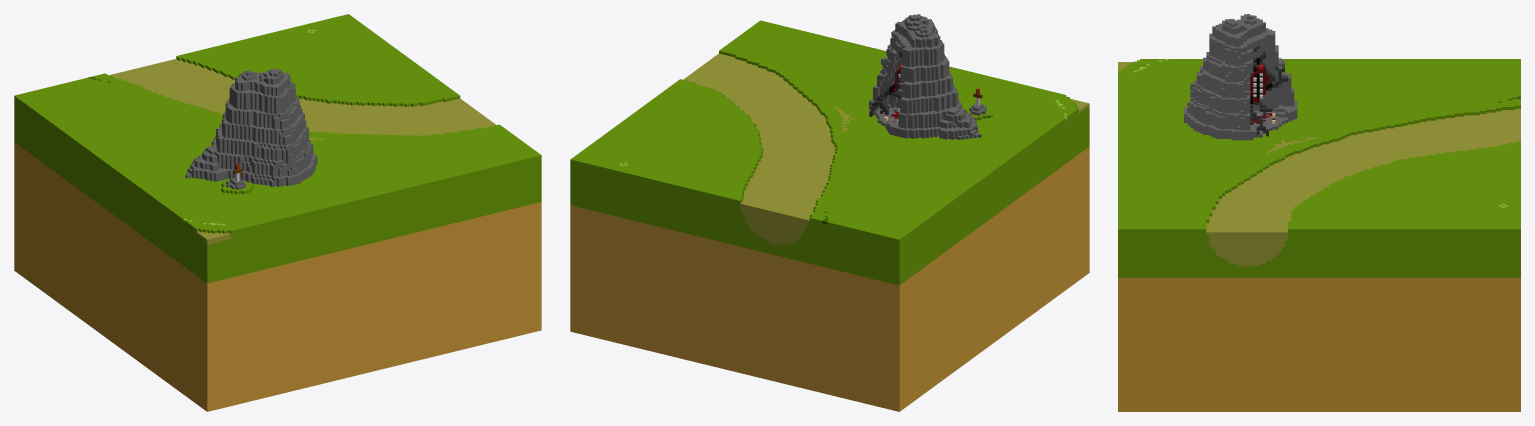
3 renders of one model, left to right at view 1: azimuth 30°, elevation 25°; view 2: azimuth 150°, elevation 25°; view 3: azimuth 270°, elevation 25°, orthographic. The views are drawn at different scales.
Visible parts, largest first — view 1: 7G; view 2: 7G; view 3: 7G.
Boxes of the visible parts, x1=… form: 7G: x1=14, y1=14, x2=541, y2=411; 7G: x1=570, y1=14, x2=1089, y2=411; 7G: x1=1118, y1=14, x2=1520, y2=411.
Bounding box in the file's own units: 12.8 × 9.9 × 12.8.
1 material, 1 textured.
